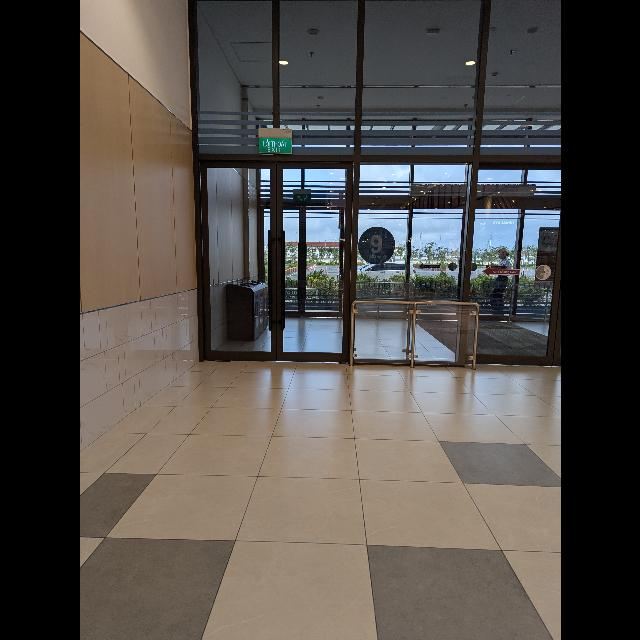exit: (258, 137, 290, 153), (293, 191, 311, 203)
